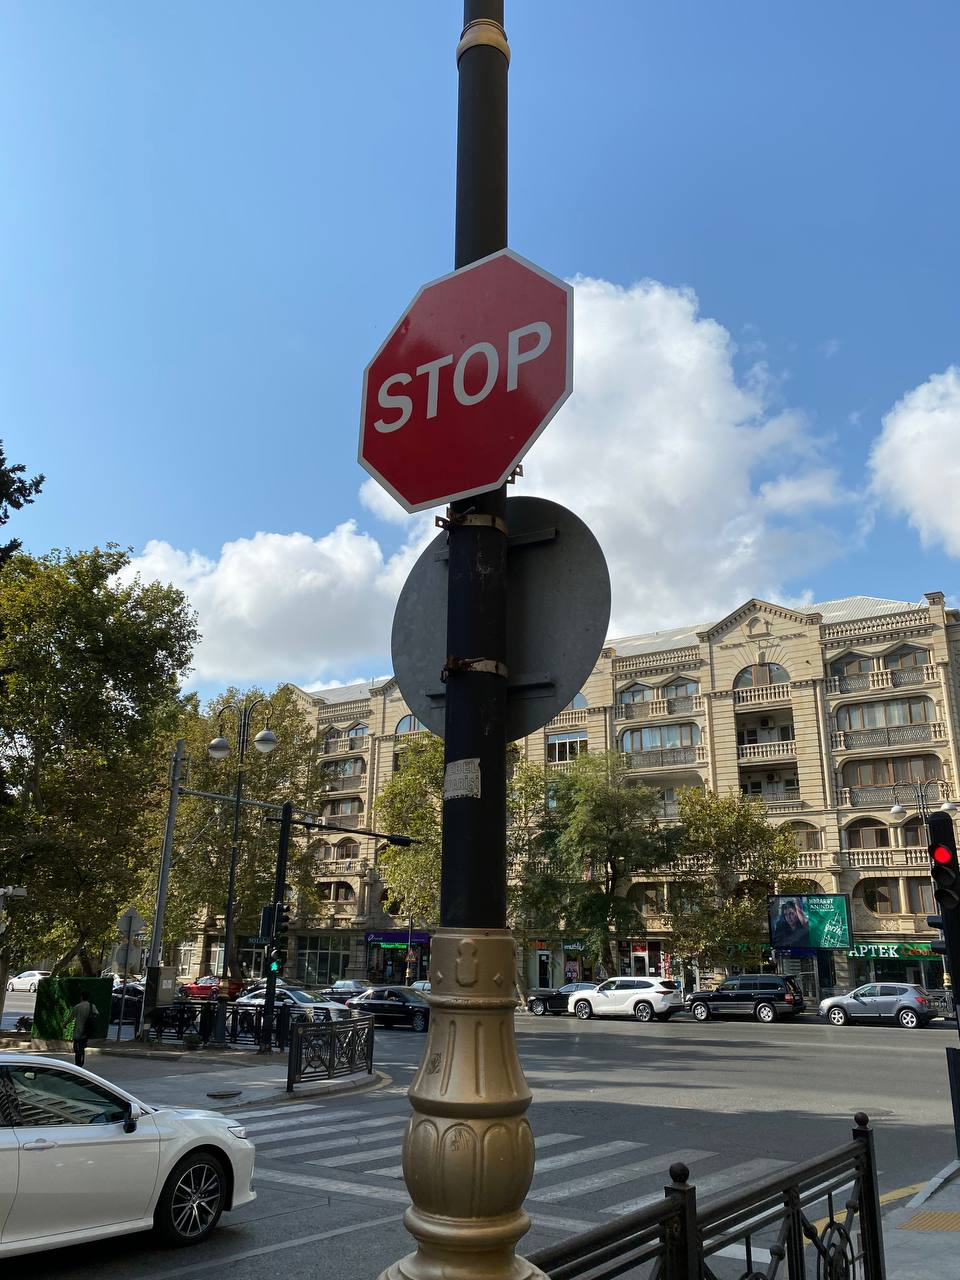STOP: (357, 248, 574, 514)
